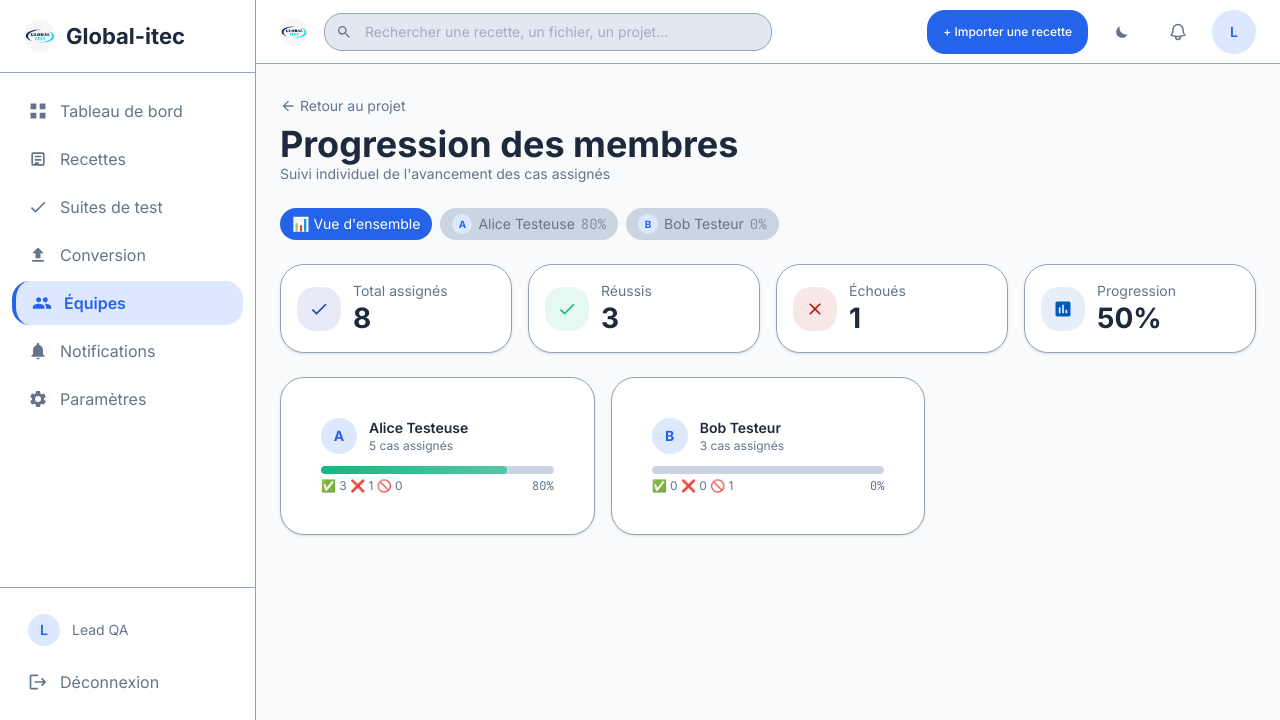
Test: MemberProgressPage › shows assigned UCs in member detail
Click the button "A Alice Testeuse 80%" at (529, 224), box [440,208,618,240]
(page scrolled)
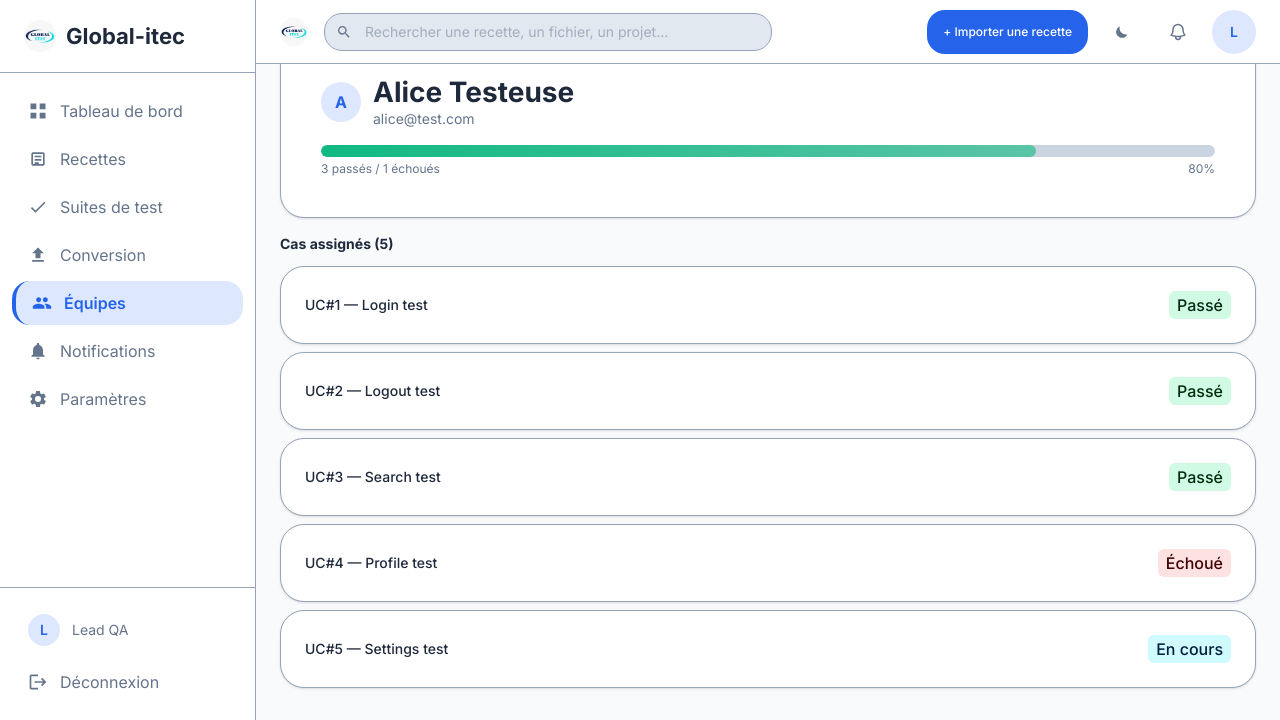
Result: the text "UC#1 — Login test" is shown at [305,296,428,313]
Result: the text "UC#5 — Settings test" is shown at [305,640,448,657]
